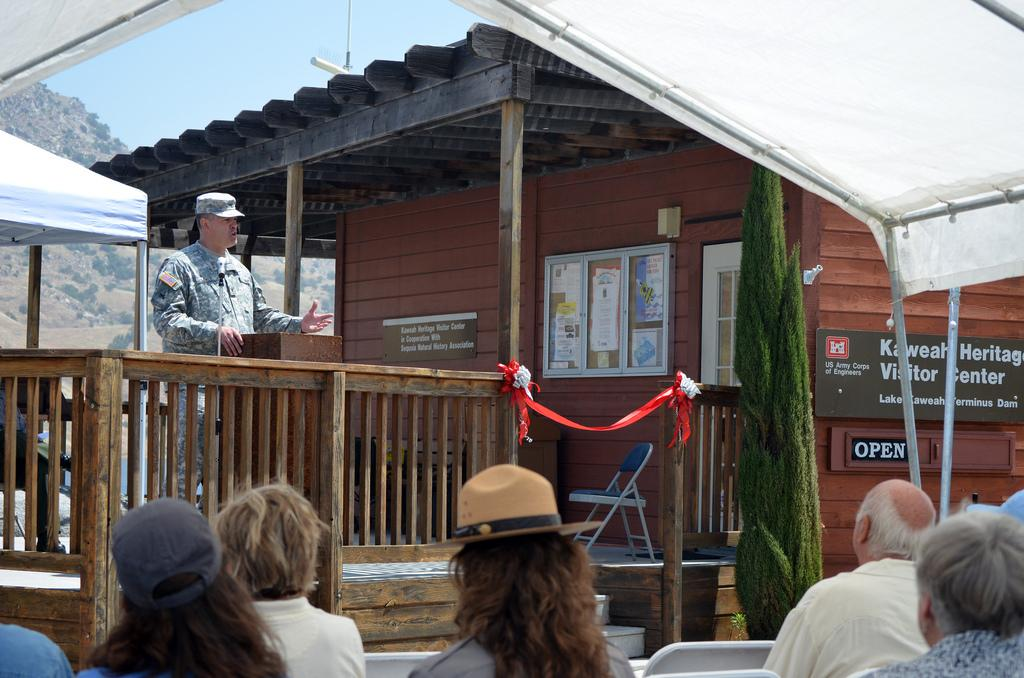Hat: (420, 463, 604, 548), (111, 496, 223, 610), (192, 194, 246, 222)
